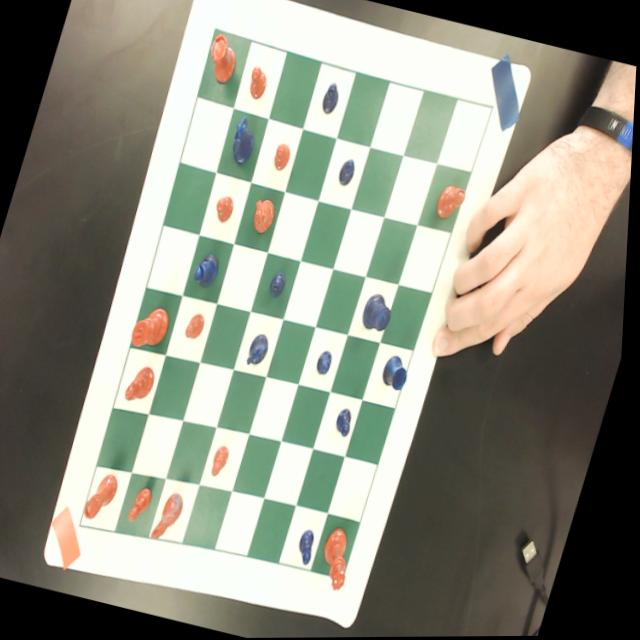B: (192, 250, 225, 289)
K: (361, 289, 399, 333)
N: (224, 114, 261, 168), (246, 330, 275, 370)
P: (298, 528, 323, 567), (319, 78, 344, 116), (335, 406, 359, 439), (268, 270, 291, 300), (316, 347, 338, 377), (337, 156, 358, 187)
R: (381, 352, 416, 392)
b: (434, 180, 469, 223), (126, 362, 160, 404)
k: (131, 300, 176, 352)
n: (155, 488, 191, 542), (248, 193, 281, 235)
p: (129, 483, 160, 525), (244, 63, 271, 101), (212, 194, 238, 226), (212, 443, 235, 478), (185, 311, 210, 343), (270, 141, 293, 172)
q: (317, 523, 365, 592)
r: (200, 31, 243, 85), (85, 467, 126, 522)
